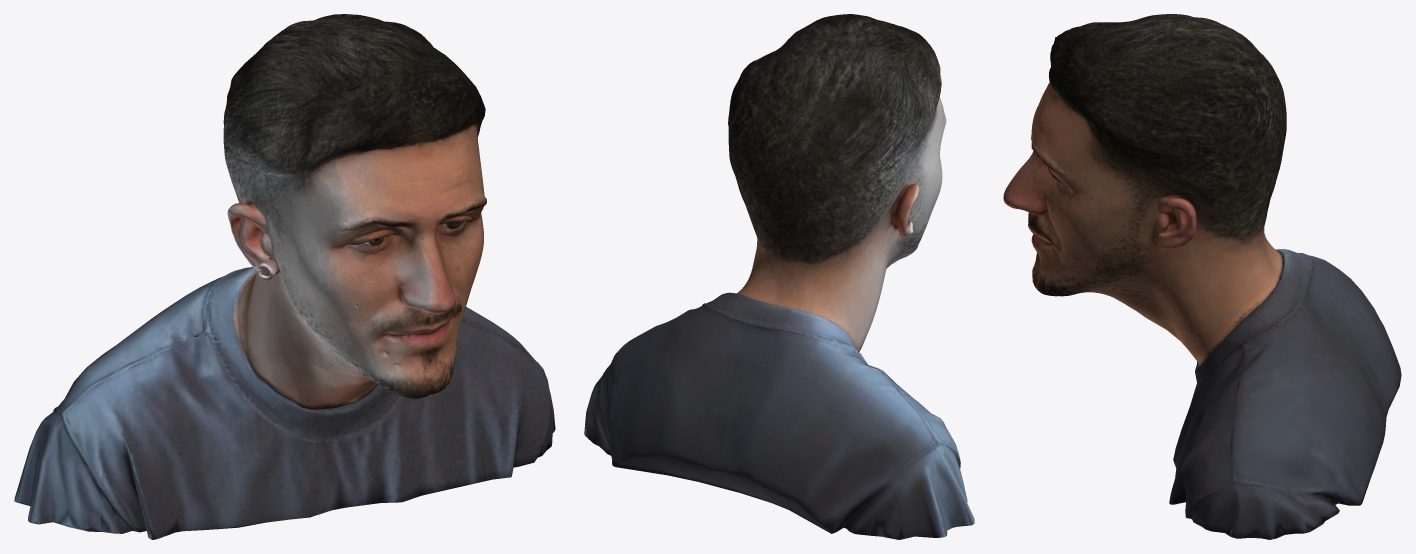
File: ronnie_head.glb
3 views of the same model, side by side, from view 1: azimuth 30°, elevation 25°; view 2: azimuth 150°, elevation 25°; view 3: azimuth 270°, elevation 25° (orthographic). The views are drawn at different scales.
Visible parts, largest first — view 1: tommy; view 2: tommy; view 3: tommy.
Part boxes in pixels (left/top/right/bottom): tommy: left=14, top=14, right=555, bottom=539; tommy: left=584, top=14, right=974, bottom=539; tommy: left=1003, top=14, right=1401, bottom=539.
Bounding box in the file's own units: 0.9776 × 0.9237 × 0.804.
Materials: 1 (1 with a texture image).
